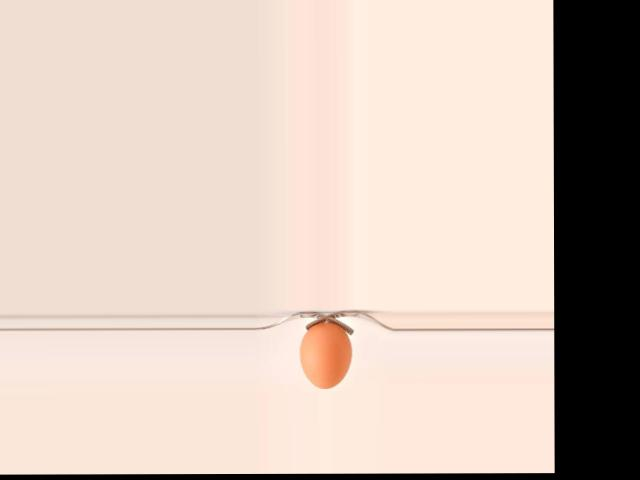egg: (299, 321, 351, 388)
